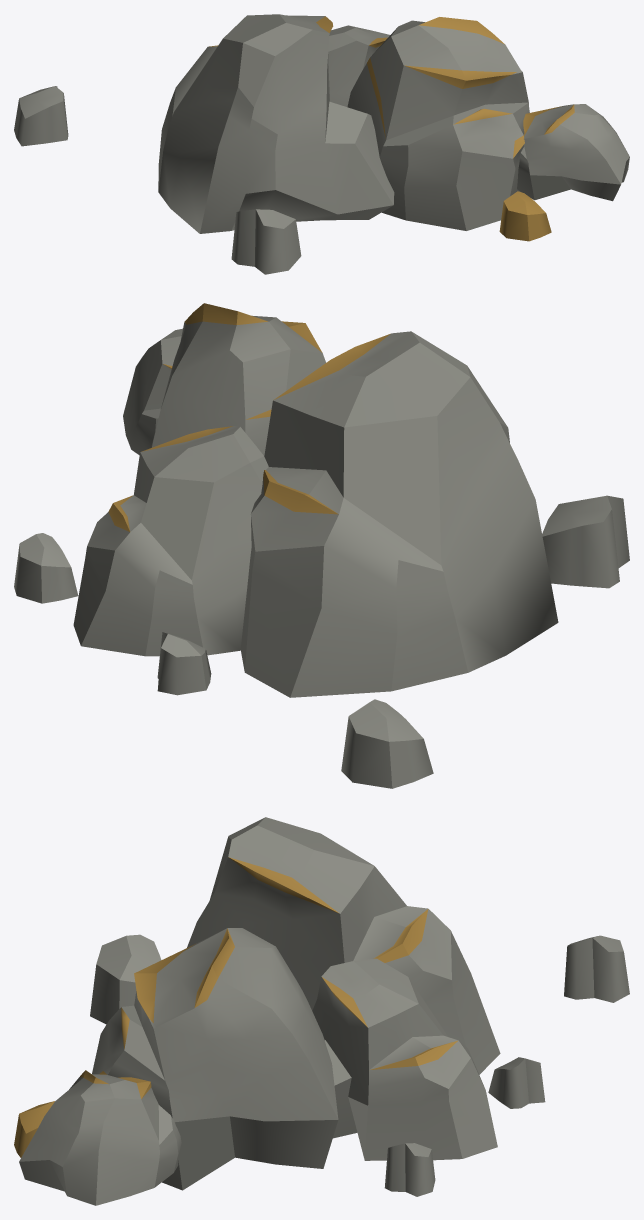
Rendered from quaternius-real-time-strategy-resource-gold-2.glb.
3 views of the same model, one above another, from view 1: azimuth 30°, elevation 25°; view 2: azimuth 150°, elevation 25°; view 3: azimuth 270°, elevation 25° (orthographic). The views are drawn at different scales.
Visible parts, largest first — view 1: Resource_Gold_2; view 2: Resource_Gold_2; view 3: Resource_Gold_2.
Part boxes in pixels (bbox=[...]): Resource_Gold_2: bbox=[14, 14, 629, 274]; Resource_Gold_2: bbox=[14, 303, 629, 788]; Resource_Gold_2: bbox=[14, 817, 629, 1205].
Size of the model in its own units: 0.6982 by 0.3006 by 0.7151.
